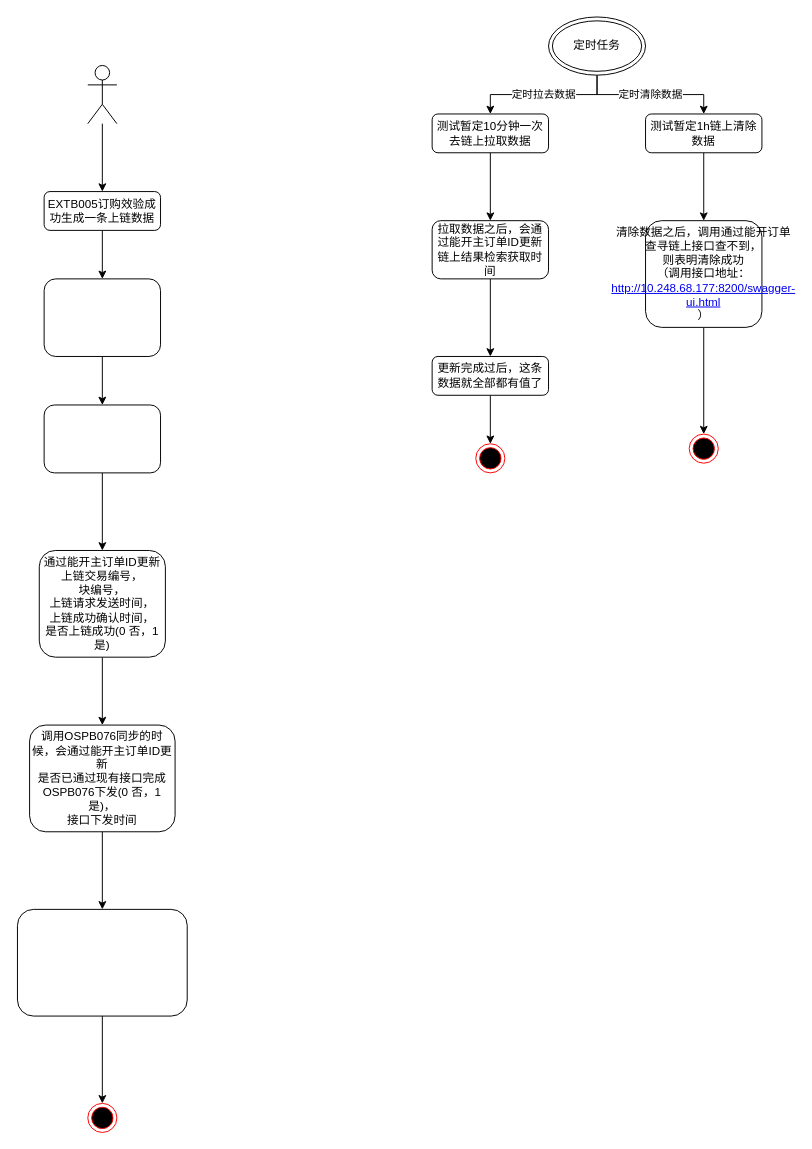
The diagram is 812 pixels wide and 1149 high, and some of its shapes have lost their labels. Each missing label, with the box of its shape:
Actor: (87, 65, 117, 124)
异步调用区块链上链接口，上链成功之后会返回 上链交易编号， 块编号: (43, 404, 161, 473)
扣费结果反馈的时候，通过能开主订单ID更新 是否通过现有接口获取到省公司返回的扣费结果(0 否，1 是)， 扣费结果获取时间（原流程）: (16, 908, 187, 1016)
数据有三个字段 权益主订单ID， 能开主订单编码， 能开子订单编码: (43, 278, 161, 356)
